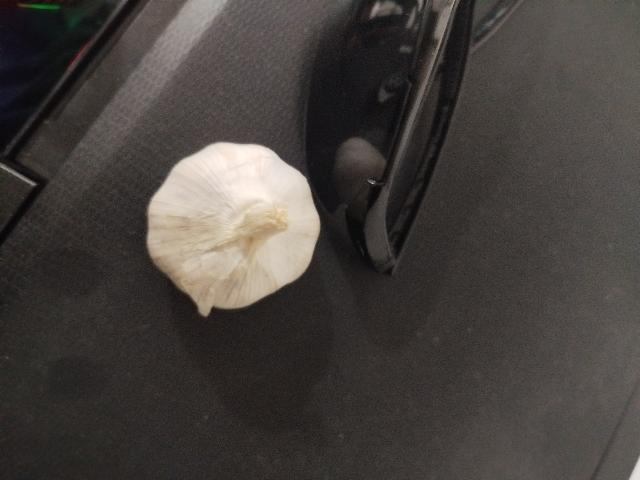garlic: (146, 141, 320, 317)
